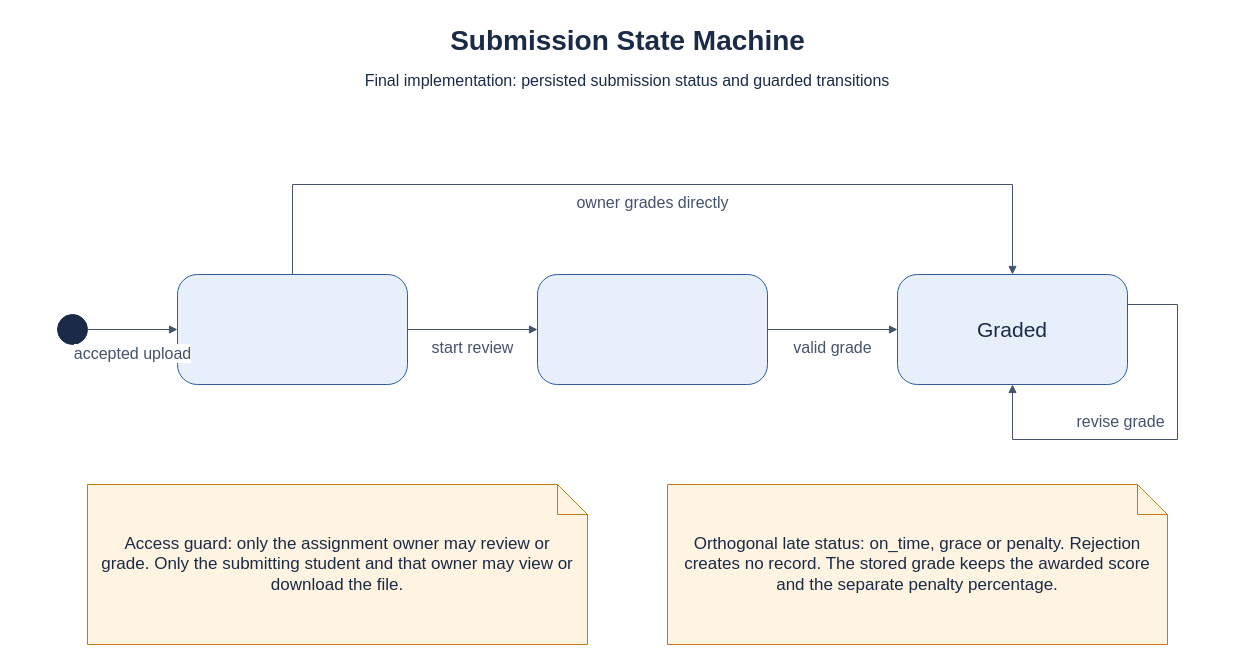
This 1254x662 diagram has some shape labels left out. The shapes that lost their labels are listed below. From the top down, each one's centre as x and y in pixels, then its label:
pixel 292 329: Submitted
pixel 652 329: Under review
